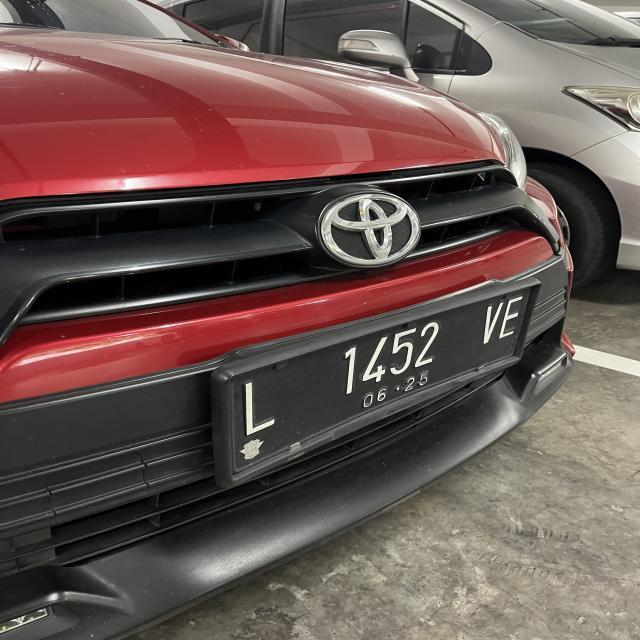1: (342, 344, 359, 398)
2: (414, 322, 440, 369)
4: (364, 336, 389, 390)
5: (392, 328, 416, 376)
E: (498, 294, 522, 346)
L: (238, 374, 278, 434)
V: (483, 300, 498, 348)
